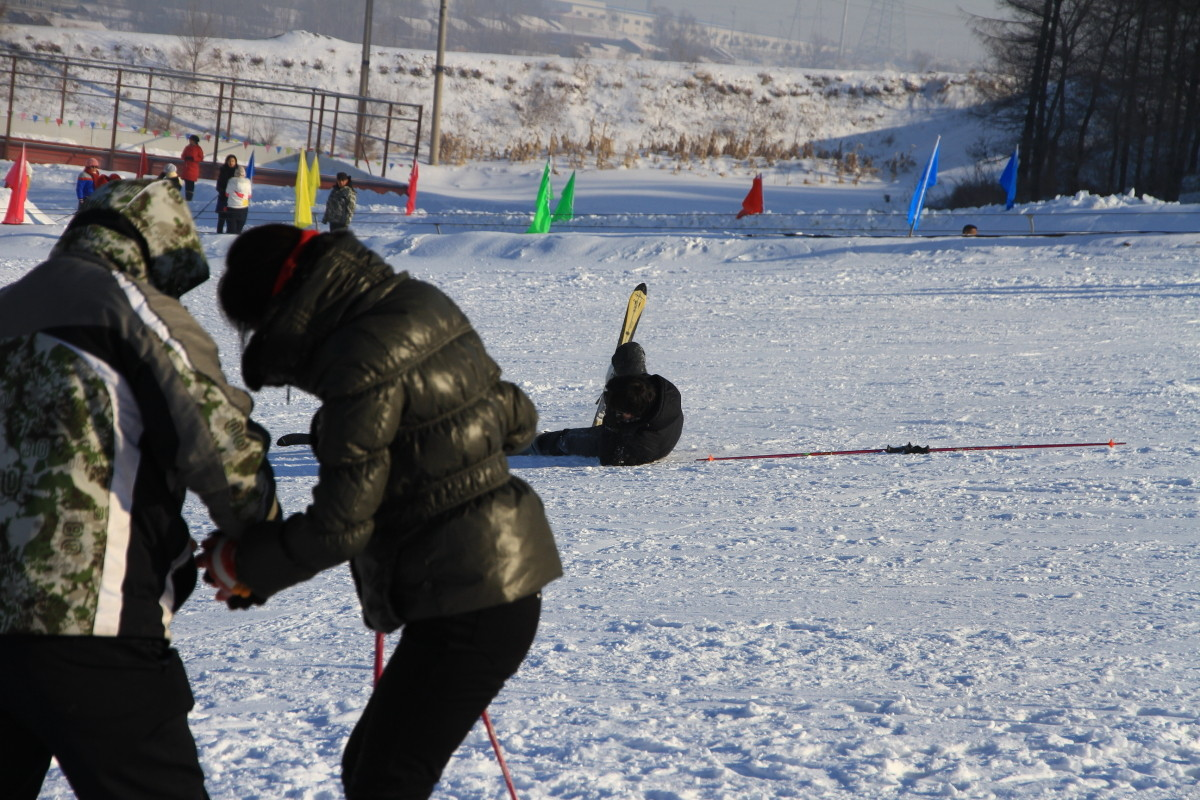fall: (477, 297, 701, 479)
